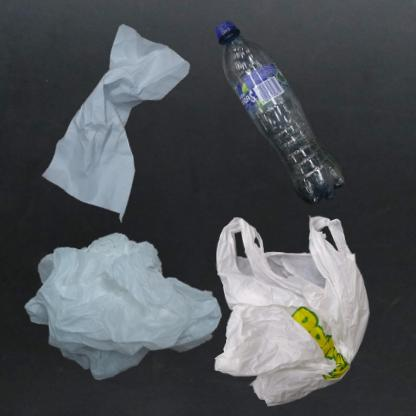bolsa: (10, 213, 256, 416), (213, 213, 372, 409)
botella: (213, 10, 354, 223)
papel: (10, 10, 233, 249)
